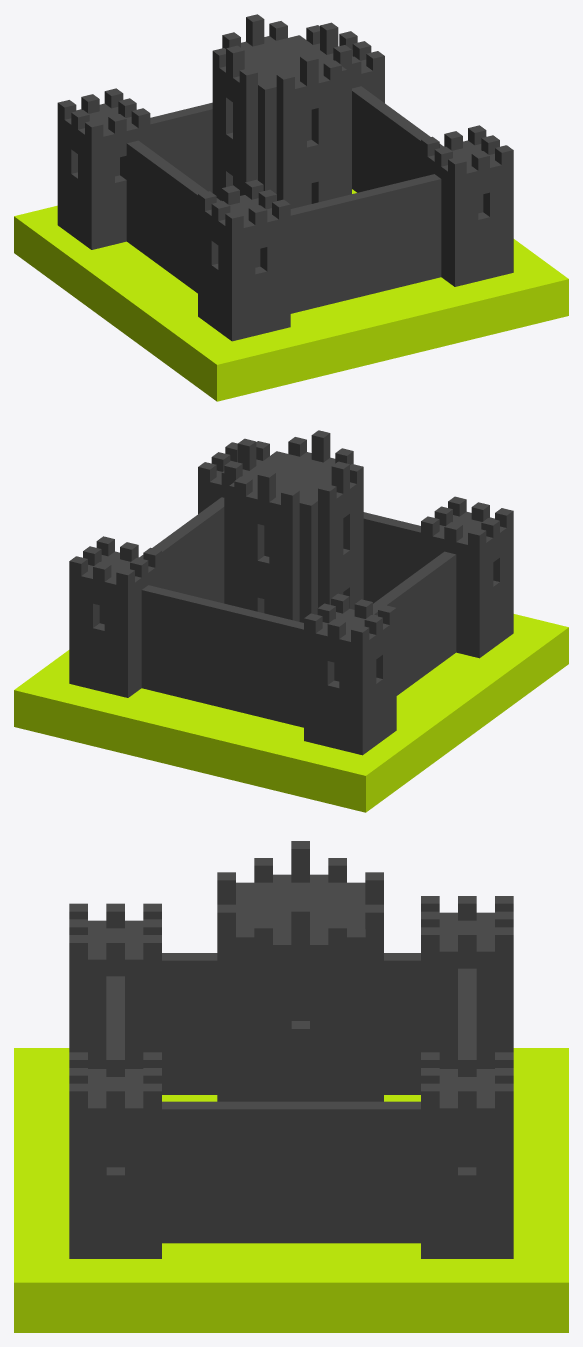
The model's file is castle_1.obj.
3 views of the same model, one above another, from view 1: azimuth 30°, elevation 25°; view 2: azimuth 150°, elevation 25°; view 3: azimuth 270°, elevation 25° (orthographic). The views are drawn at different scales.
Size of the model in its own units: 3 by 2 by 3.
